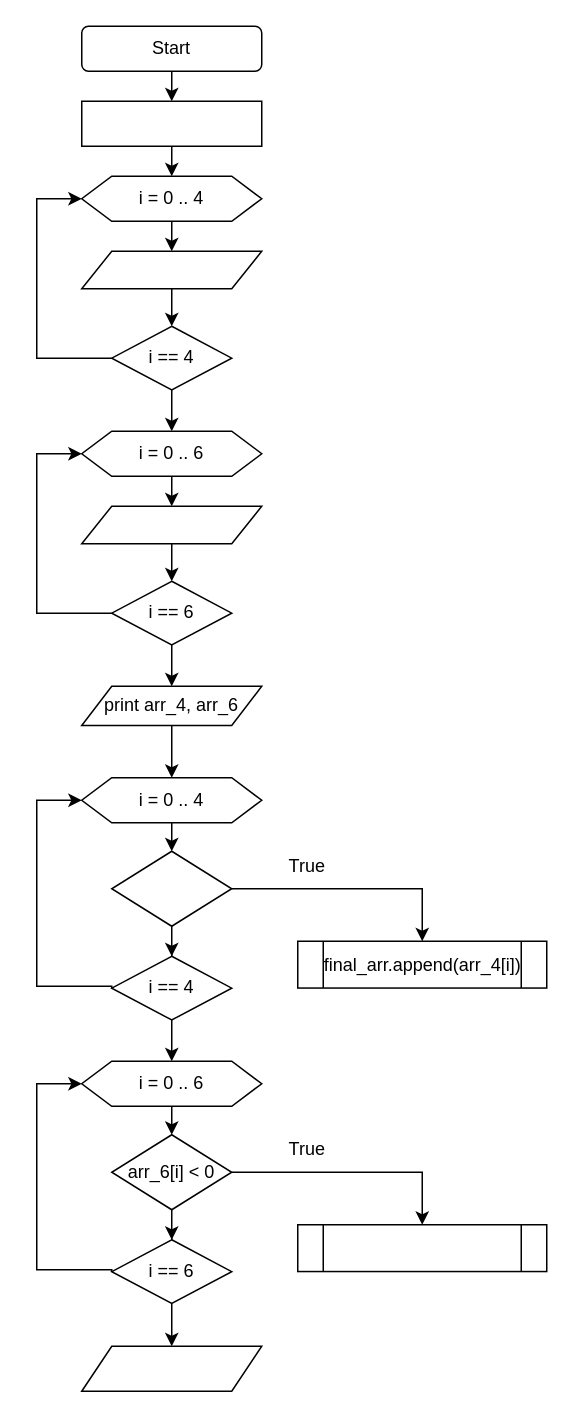
This 573x1418 diagram has some shape labels left out. Each missing label, with the centre of its shape:
arr_4 = [], arr_6 = [], final_arr = []: (171,123)
arr_4[i] == 5: (171,888)
final_arr: (171,1368)
final_arr.append(arr_6[i]): (421,1247)
input arr_4[n]: (171,269)
input arr_6[n]: (171,524)
